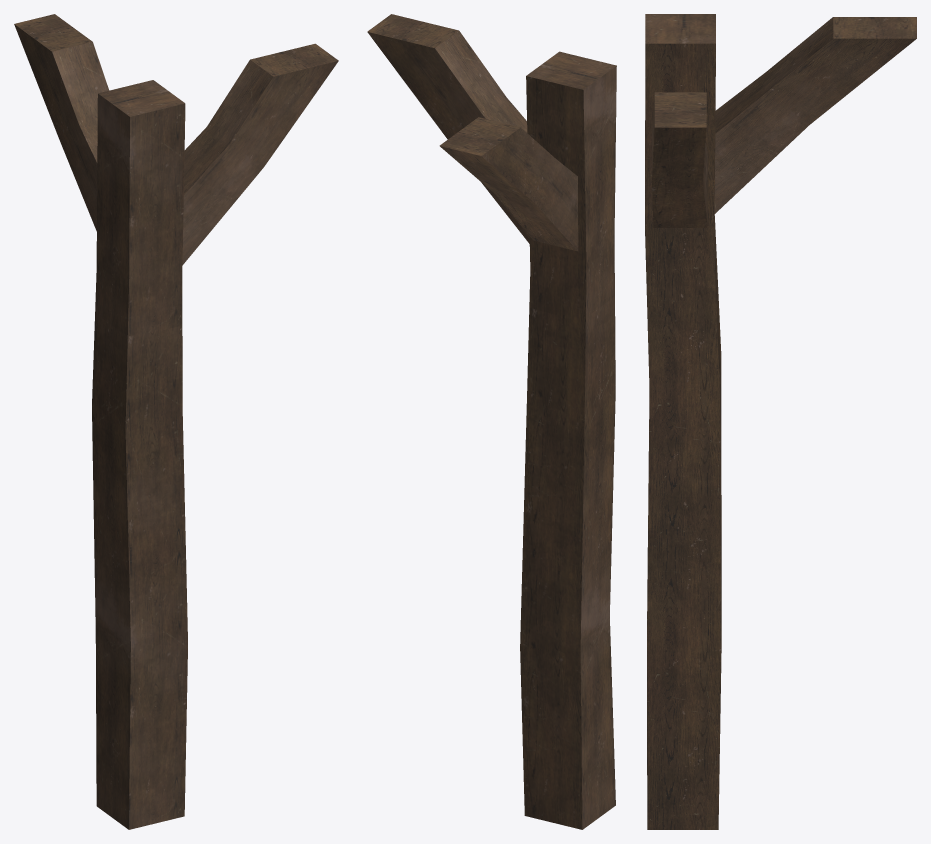
Rendered from SM_Wooden_Support_10.fbx.
3 views of the same model, side by side, from view 1: azimuth 30°, elevation 25°; view 2: azimuth 150°, elevation 25°; view 3: azimuth 270°, elevation 25° (orthographic). The views are drawn at different scales.
Parts seen in each view (by area): view 1: SM_Wooden_Support_10_LOD0; view 2: SM_Wooden_Support_10_LOD0; view 3: SM_Wooden_Support_10_LOD0.
Part boxes in pixels (x1=…): SM_Wooden_Support_10_LOD0: x1=14, y1=14, x2=338, y2=829; SM_Wooden_Support_10_LOD0: x1=367, y1=14, x2=616, y2=829; SM_Wooden_Support_10_LOD0: x1=645, y1=14, x2=916, y2=829.
Size of what is drawn, in the model's own units: 189 by 595 by 186.
